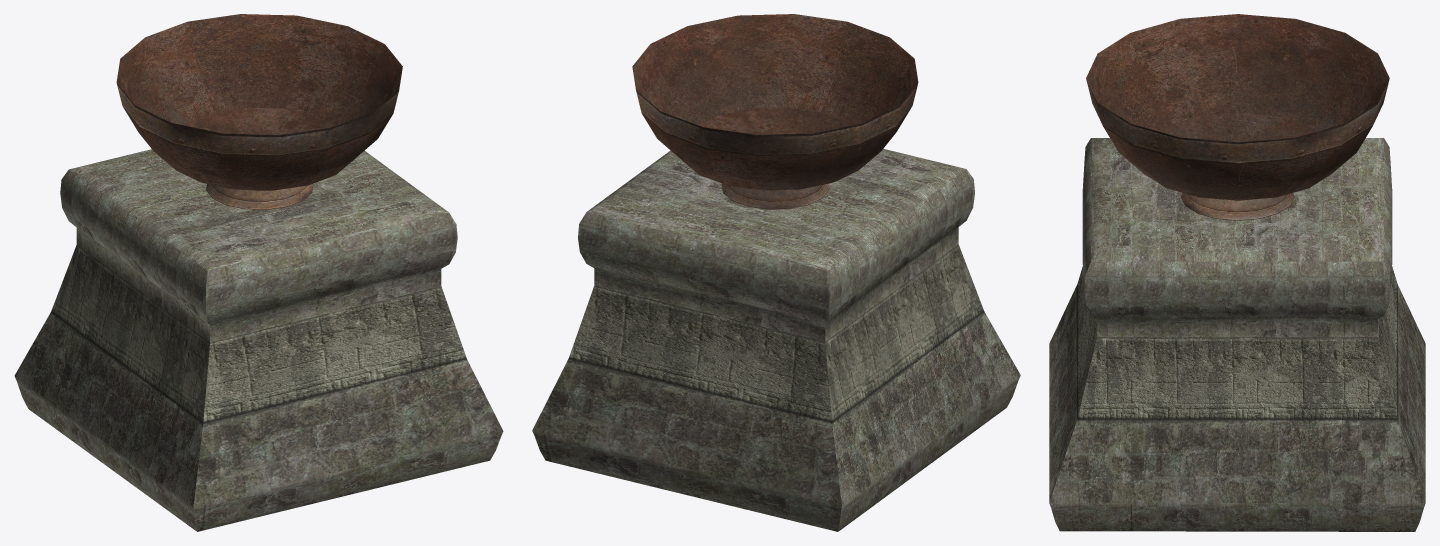
The model's file is RockstandFirebowl.fbx.
3 views of the same model, side by side, from view 1: azimuth 30°, elevation 25°; view 2: azimuth 150°, elevation 25°; view 3: azimuth 270°, elevation 25° (orthographic). The views are drawn at different scales.
Visible parts, largest first — view 1: Mesh Object; view 2: Mesh Object; view 3: Mesh Object.
Part boxes in pixels (box(x1,y1,x2,y2)): Mesh Object: box(14, 14, 503, 531); Mesh Object: box(532, 14, 1020, 531); Mesh Object: box(1049, 14, 1425, 531).
Size of the model in its own units: 1.88 by 2.09 by 1.88.
